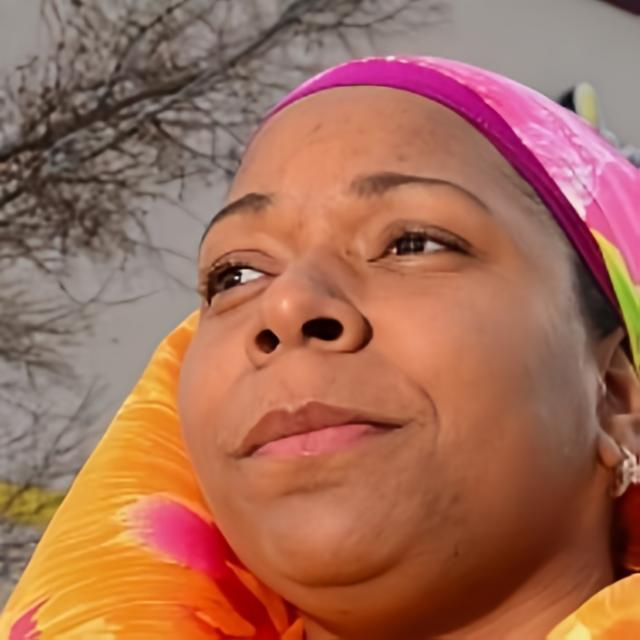content: (174, 82, 594, 588)
